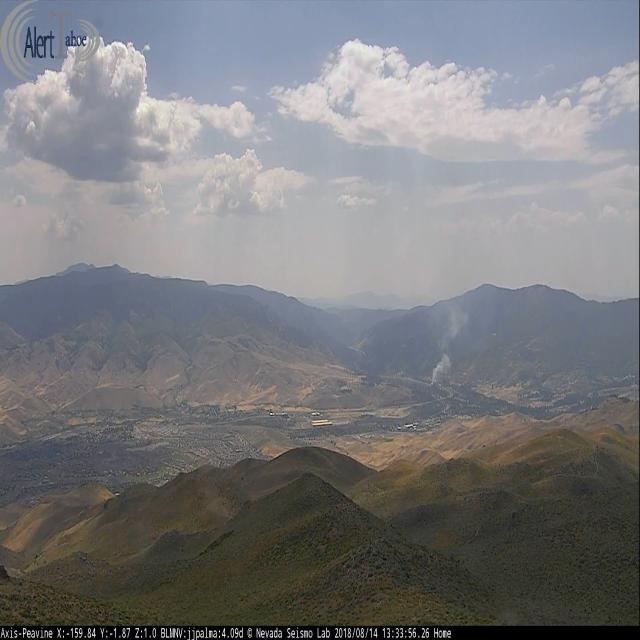smoke: (429, 301, 468, 385)
